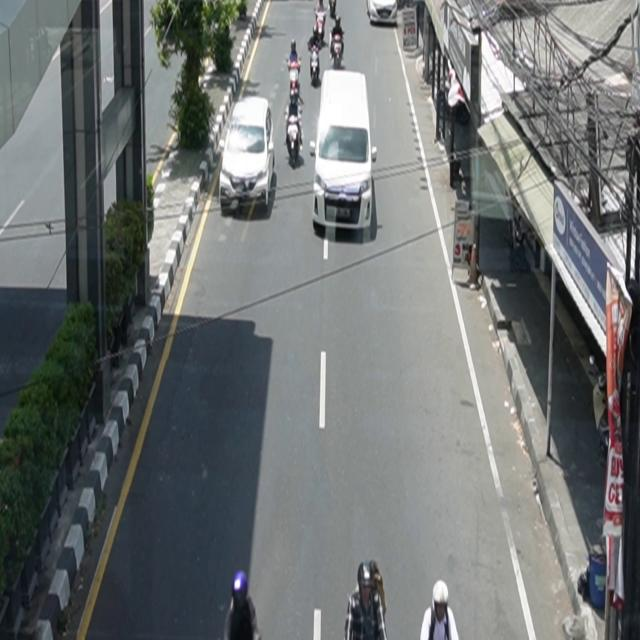car: (310, 70, 378, 233), (220, 97, 276, 216), (367, 1, 398, 26)
